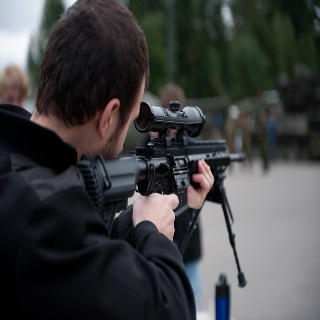rifle: (74, 100, 250, 288)
